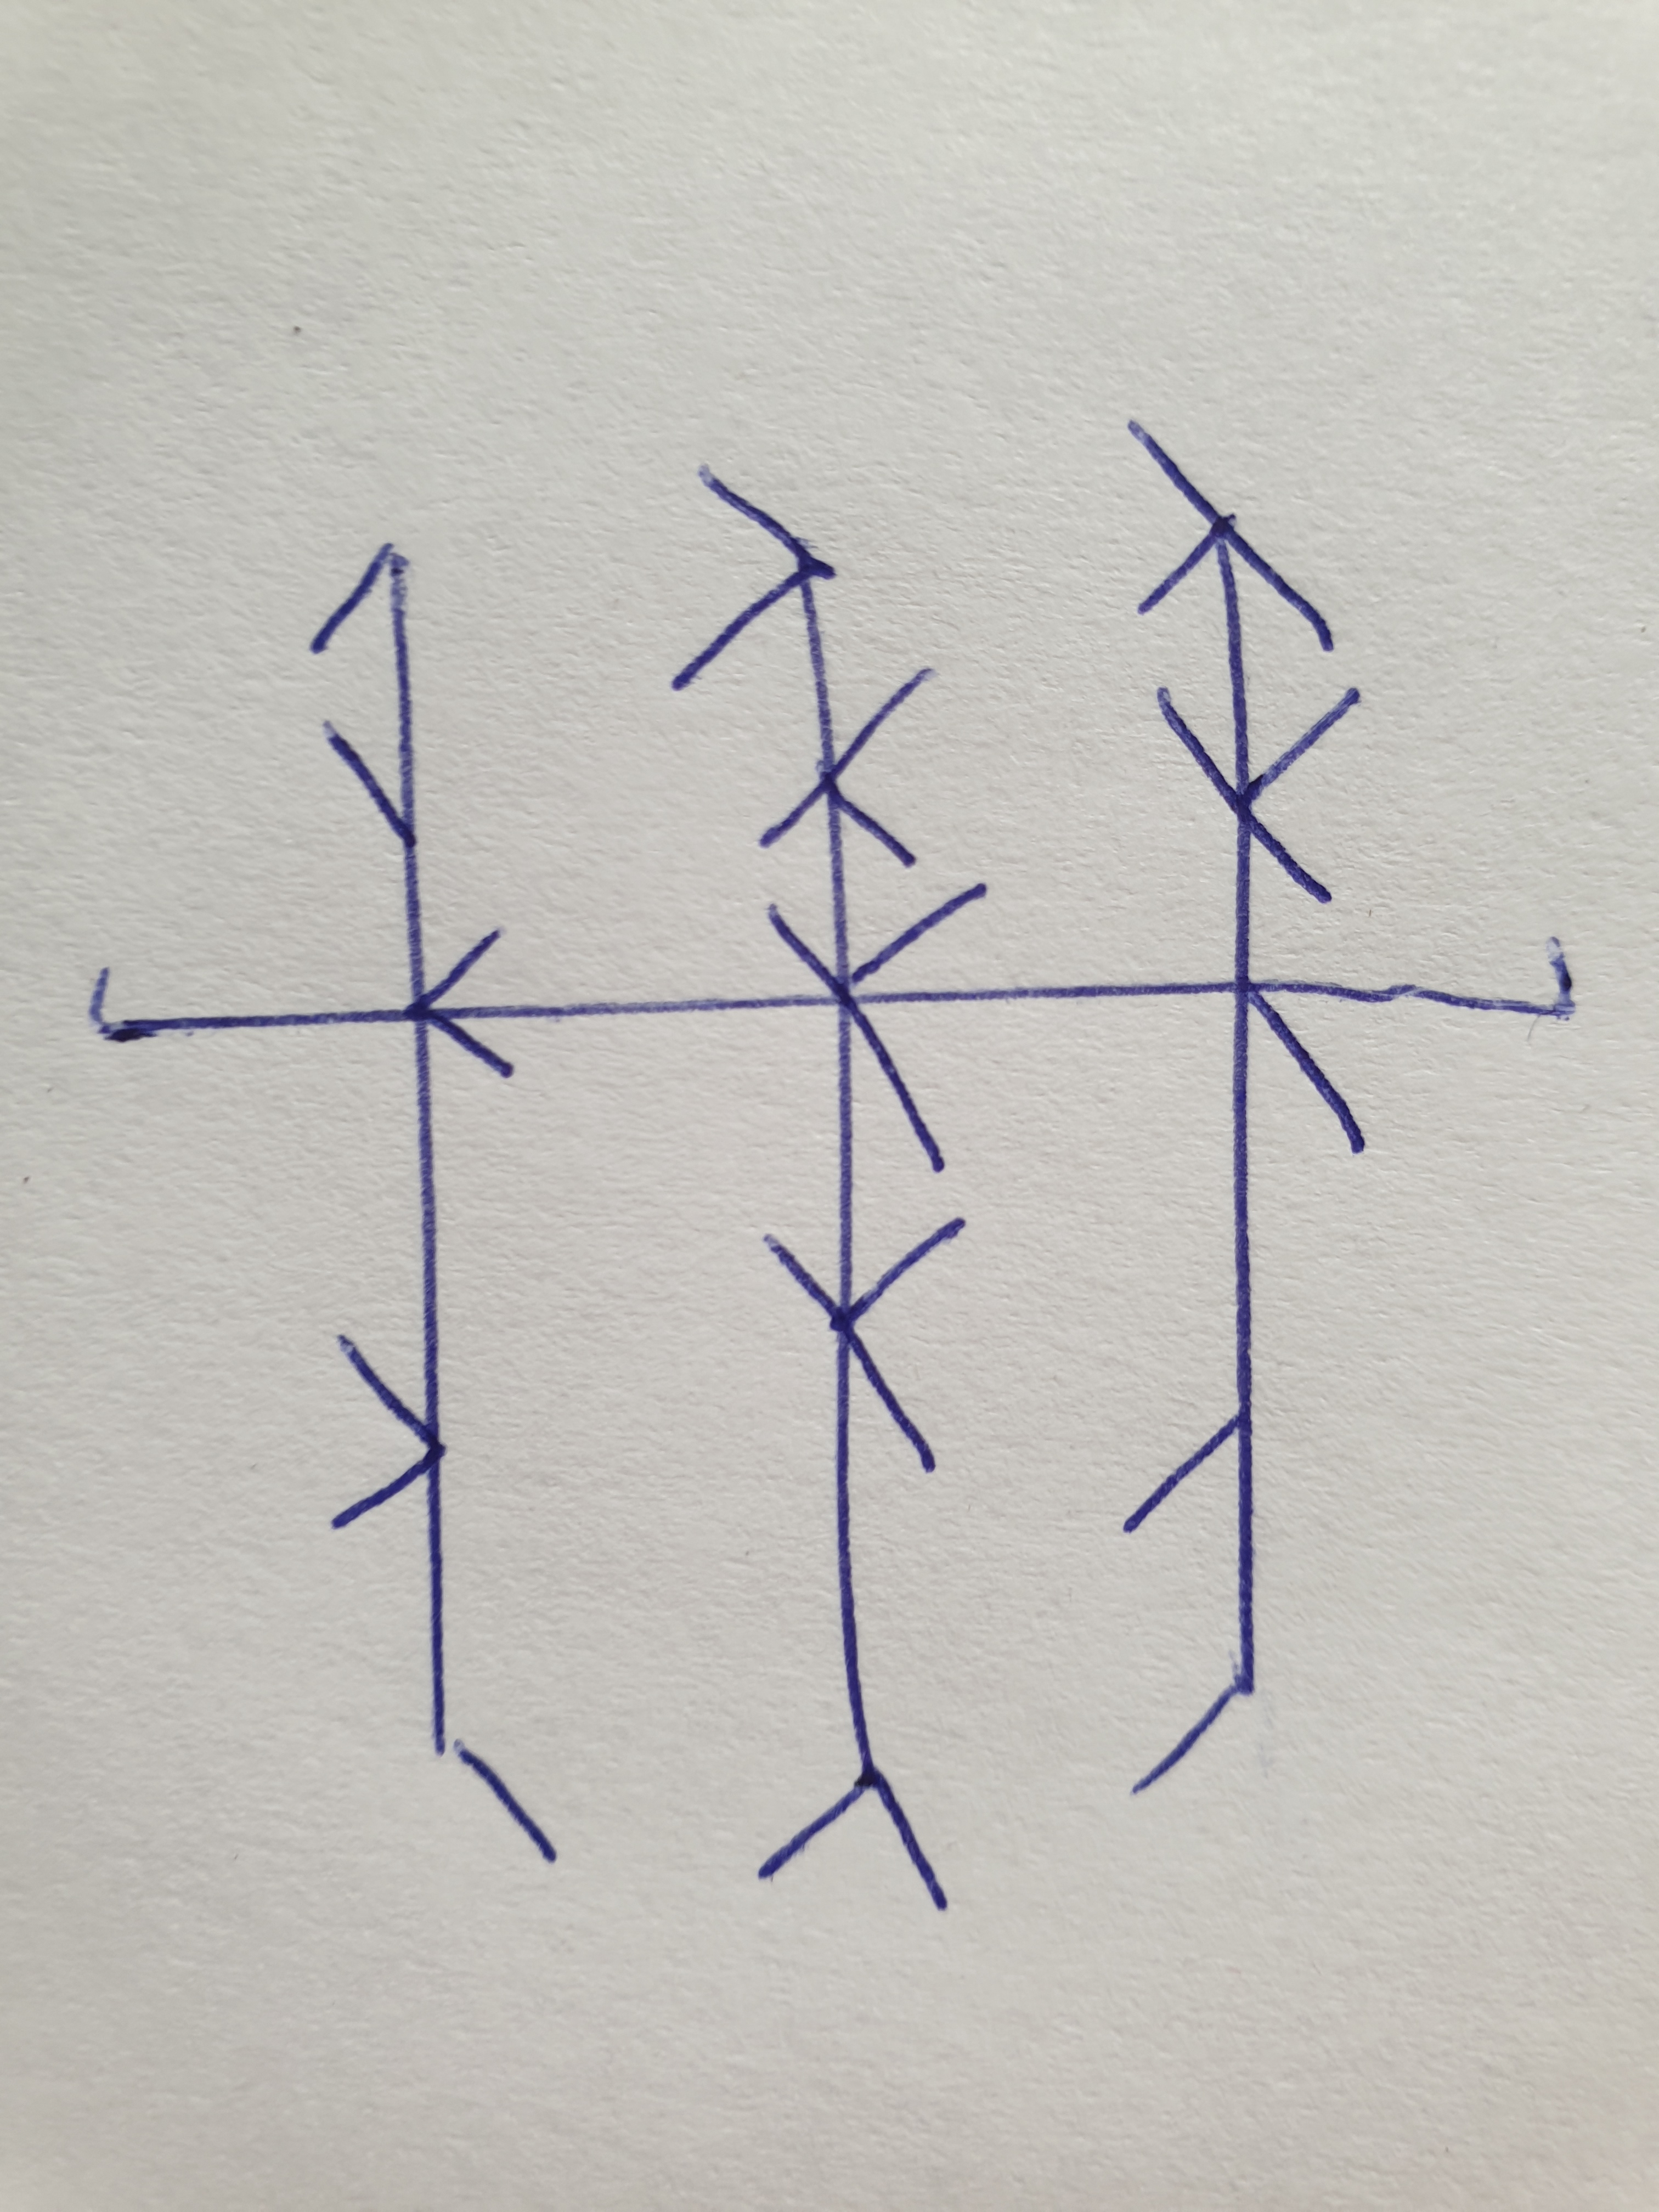Bar: (674, 460, 990, 1911), (1121, 418, 1366, 1797), (310, 540, 559, 1869)
Barcode: (89, 418, 1572, 1911)
End: (1284, 942, 1574, 1022)
Start: (89, 963, 410, 1043)
